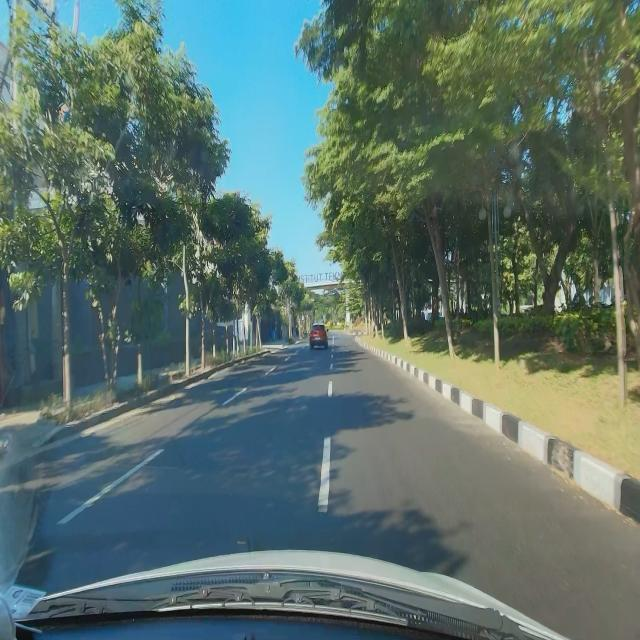car: (308, 322, 329, 350)
